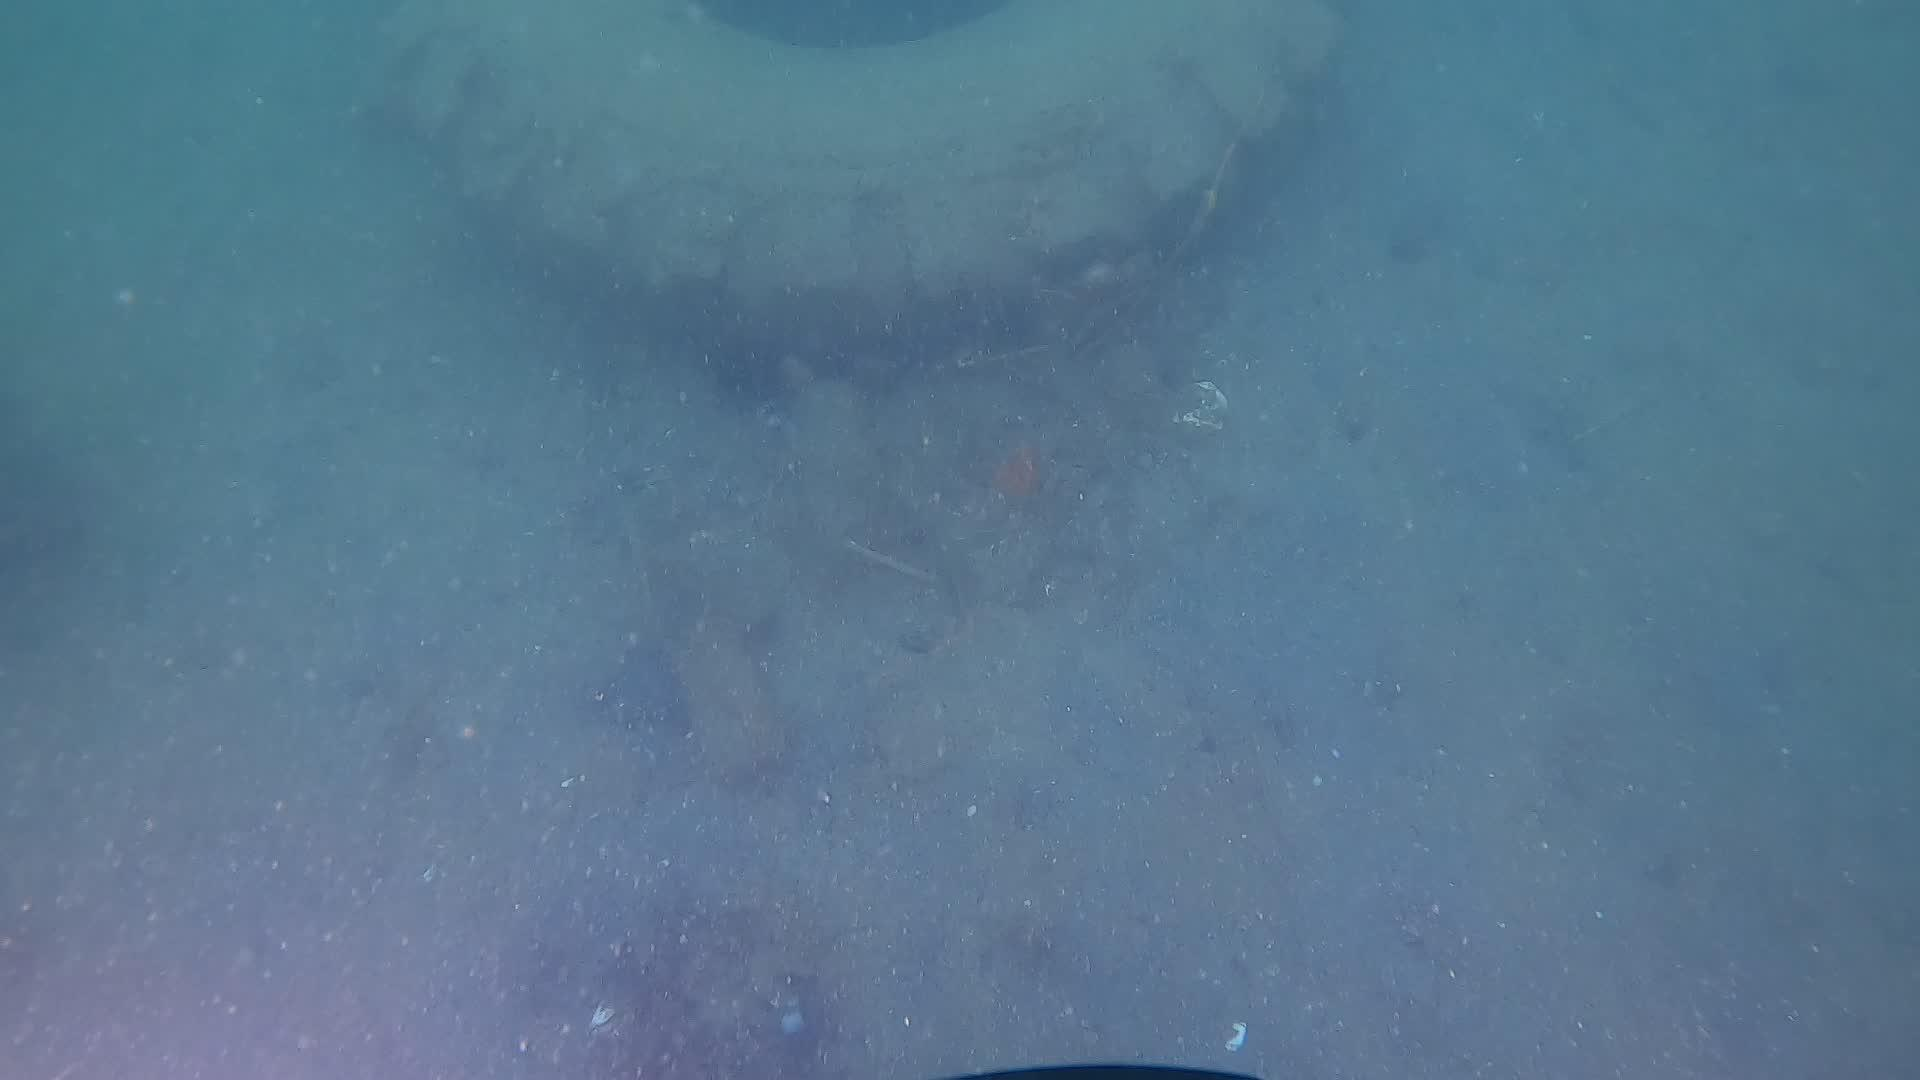tire: (377, 0, 1353, 375)
